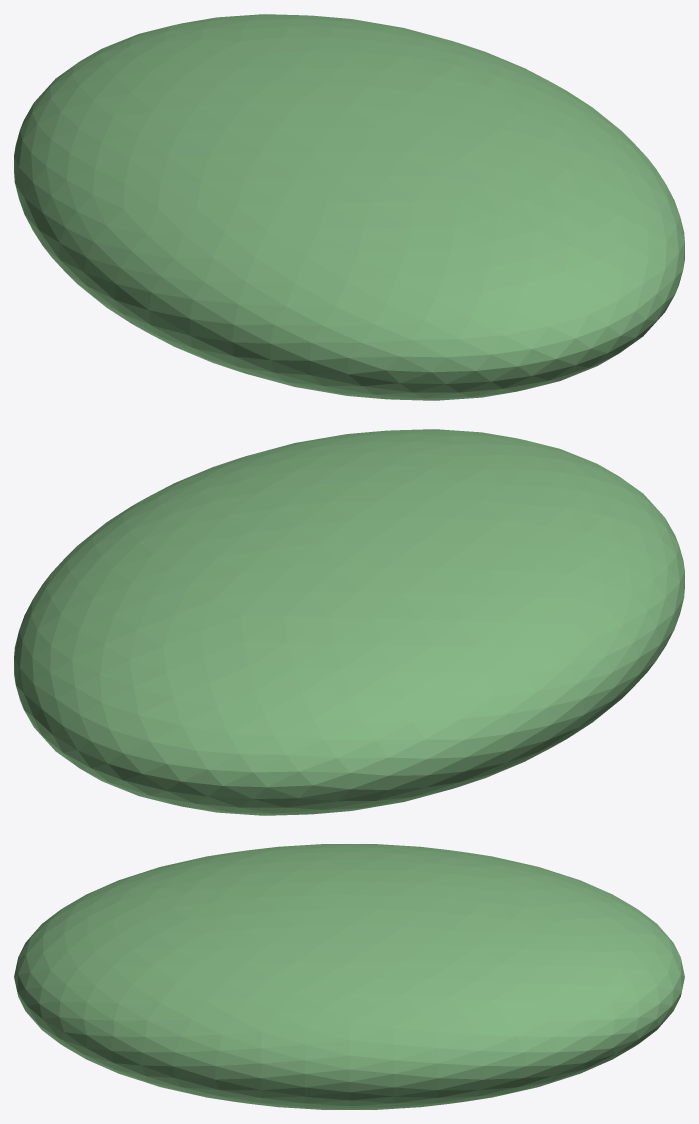
The model's file is large_hill.glb.
3 renders of one model, top to bottom at view 1: azimuth 30°, elevation 25°; view 2: azimuth 150°, elevation 25°; view 3: azimuth 270°, elevation 25°, orthographic. The views are drawn at different scales.
Parts seen in each view (by area): view 1: hill_0_0; view 2: hill_0_0; view 3: hill_0_0.
Part boxes in pixels (x1,y1,x2,y2): hill_0_0: [14, 14, 684, 400]; hill_0_0: [14, 429, 684, 815]; hill_0_0: [14, 844, 684, 1109].
Size of the model in its own units: 11.44 by 4.18 by 15.45.
